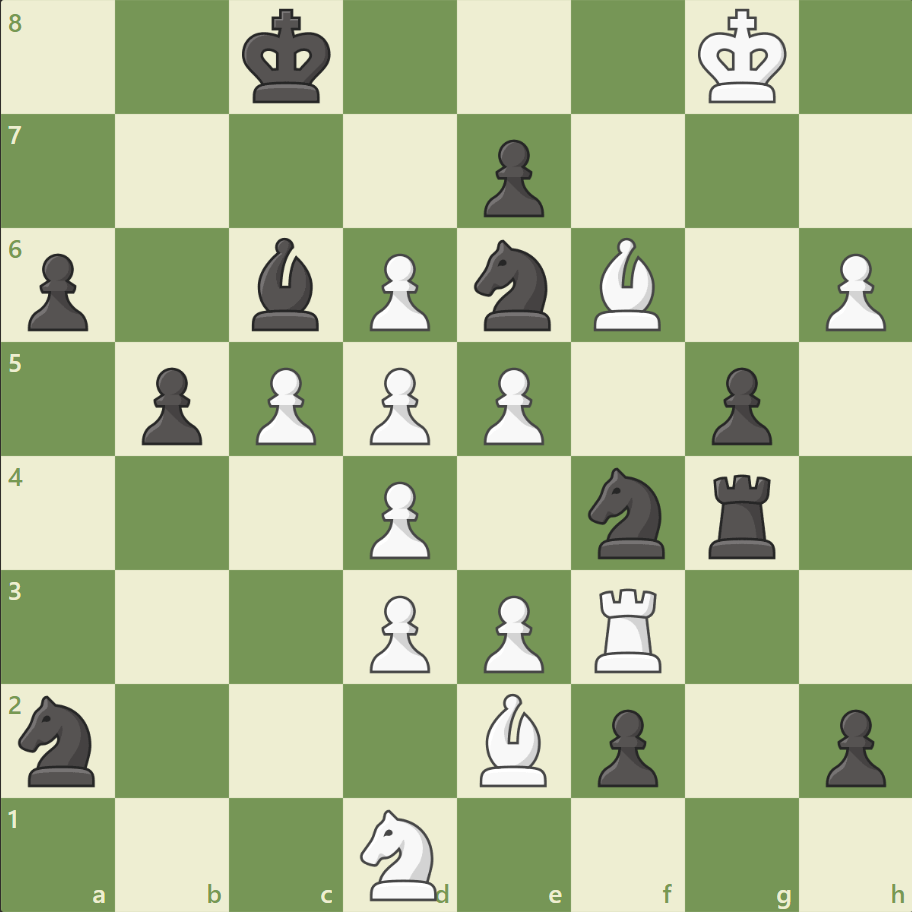B: (585, 233, 669, 336), (471, 687, 555, 790)
K: (692, 4, 792, 112)
N: (351, 802, 449, 904)
P: (247, 359, 322, 450), (474, 359, 549, 450), (474, 586, 549, 677), (361, 246, 435, 337), (815, 246, 889, 337), (361, 359, 435, 450), (361, 473, 435, 564), (361, 586, 435, 677)
R: (587, 579, 670, 676)
b: (244, 233, 328, 336)
k: (238, 4, 338, 112)
n: (465, 234, 562, 337), (579, 461, 676, 564), (11, 688, 108, 791)
p: (474, 132, 549, 223), (20, 246, 95, 337), (133, 359, 208, 450), (701, 359, 776, 450), (588, 700, 662, 791), (815, 700, 889, 791)
r: (700, 466, 783, 563)
